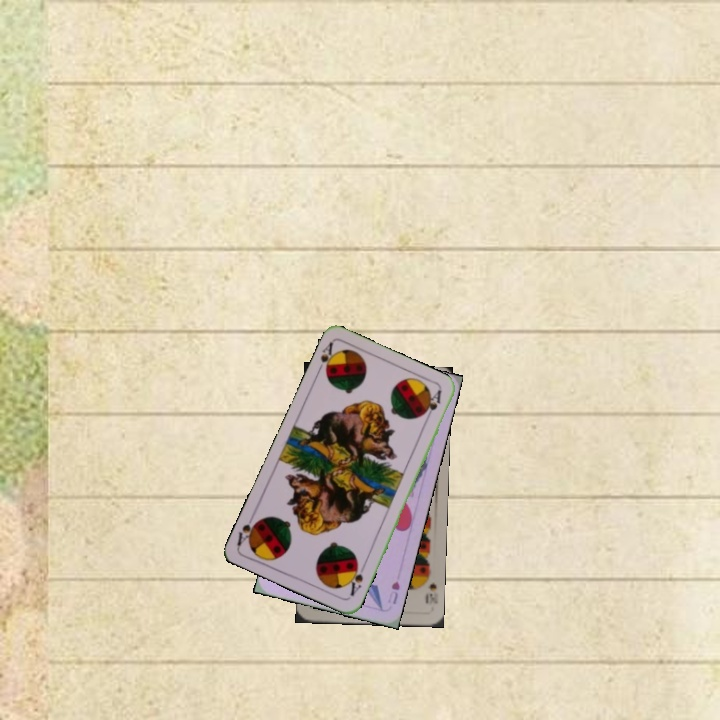HU: (384, 577, 402, 607)
S10: (421, 570, 440, 606)
SA: (312, 338, 340, 380), (344, 559, 368, 599)
